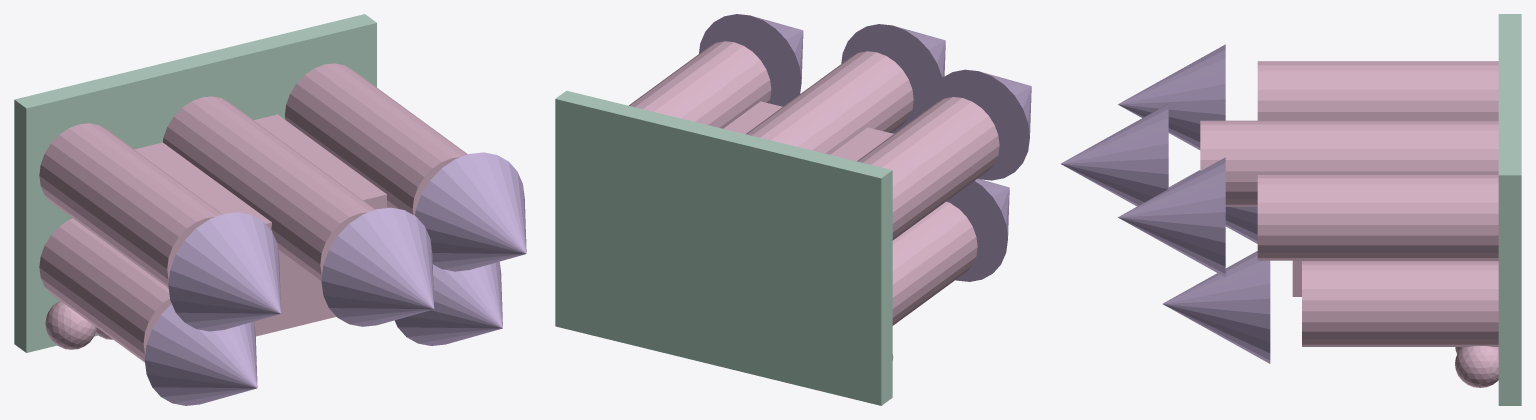
File: 03_Castelo_Encantado.glb
The picture shows the model from 3 angles, left to right: view 1: azimuth 30°, elevation 25°; view 2: azimuth 150°, elevation 25°; view 3: azimuth 270°, elevation 25°; orthographic projection. The views are drawn at different scales.
Visible parts, largest first — view 1: ground, tower_4, tower_2, tower_3, roof_4, roof_2, roof_3, tower, central_hall, roof, roof_1, flower_bush; view 2: ground, tower_2, tower_4, tower_3, tower, roof_2, roof_3, roof_4, roof, central_hall; view 3: tower_3, tower_4, tower_1, tower_2, ground, roof_3, roof_1, roof_4, roof_2, flower_bush_3, roof, central_hall.
Part boxes in pixels (left/top/right/bottom): ground: left=14, top=14, right=376, bottom=352; tower_4: left=163, top=96, right=375, bottom=283; tower_2: left=39, top=123, right=222, bottom=287; tower_3: left=285, top=63, right=467, bottom=215; roof_4: left=321, top=207, right=434, bottom=326; roof_2: left=168, top=212, right=281, bottom=331; roof_3: left=415, top=152, right=526, bottom=271; tower: left=39, top=218, right=171, bottom=362; central_hall: left=134, top=114, right=386, bottom=336; roof: left=144, top=303, right=257, bottom=405; roof_1: left=394, top=261, right=502, bottom=345; flower_bush: left=45, top=301, right=96, bottom=349; ground: left=555, top=90, right=892, bottom=405; tower_2: left=857, top=97, right=999, bottom=240; tower_4: left=746, top=51, right=913, bottom=154; tower_3: left=628, top=41, right=771, bottom=128; tower: left=892, top=201, right=977, bottom=325; roof_2: left=927, top=69, right=1031, bottom=180; roof_3: left=699, top=14, right=803, bottom=106; roof_4: left=841, top=24, right=945, bottom=133; roof: left=946, top=178, right=1009, bottom=281; central_hall: left=723, top=101, right=893, bottom=161; tower_3: left=1257, top=174, right=1498, bottom=260; tower_4: left=1200, top=120, right=1498, bottom=206; tower_1: left=1302, top=261, right=1498, bottom=346; tower_2: left=1257, top=61, right=1498, bottom=120; ground: left=1498, top=14, right=1521, bottom=405; roof_3: left=1118, top=157, right=1225, bottom=277; roof_1: left=1162, top=251, right=1270, bottom=363; roof_4: left=1060, top=104, right=1168, bottom=206; roof_2: left=1118, top=44, right=1225, bottom=149; flower_bush_3: left=1455, top=346, right=1498, bottom=387; roof: left=1168, top=170, right=1257, bottom=243; central_hall: left=1292, top=260, right=1498, bottom=296.
Size of the model in its own units: 6.1 by 4 by 7.25.
